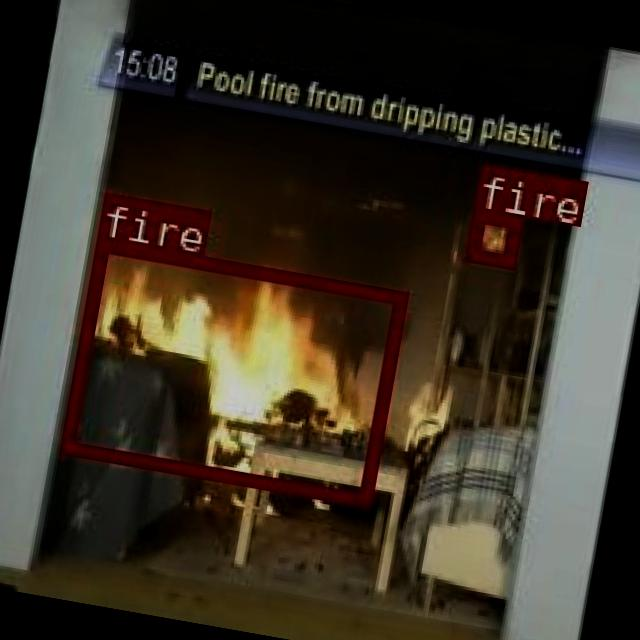fire: (58, 236, 404, 503), (462, 206, 519, 266)
